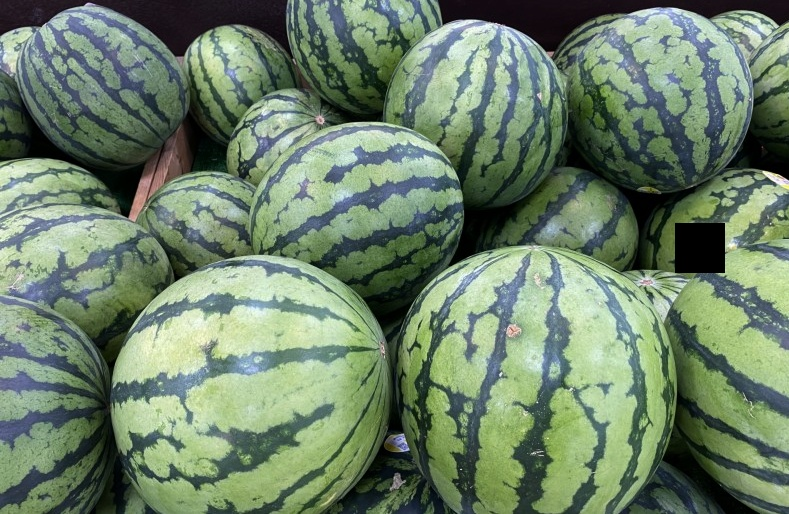watermelon: (398, 249, 677, 514), (112, 258, 394, 513), (240, 114, 467, 293), (574, 6, 758, 194), (392, 15, 564, 208), (18, 4, 189, 166), (1, 207, 180, 333)
